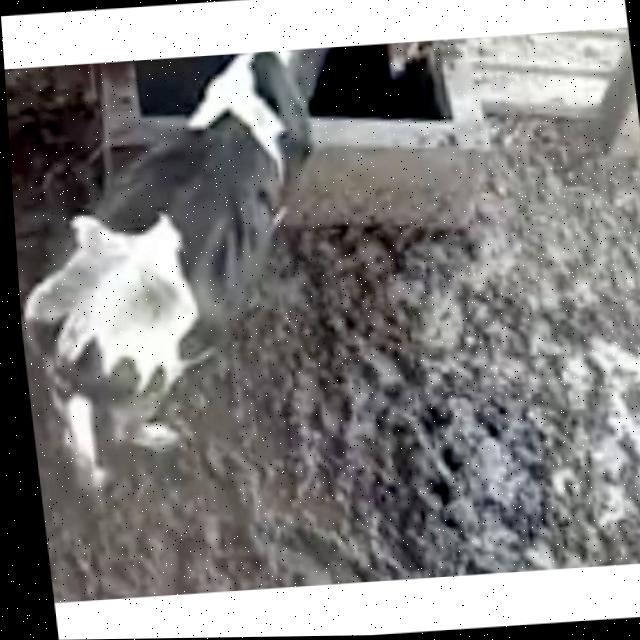drink: (176, 45, 363, 140)
